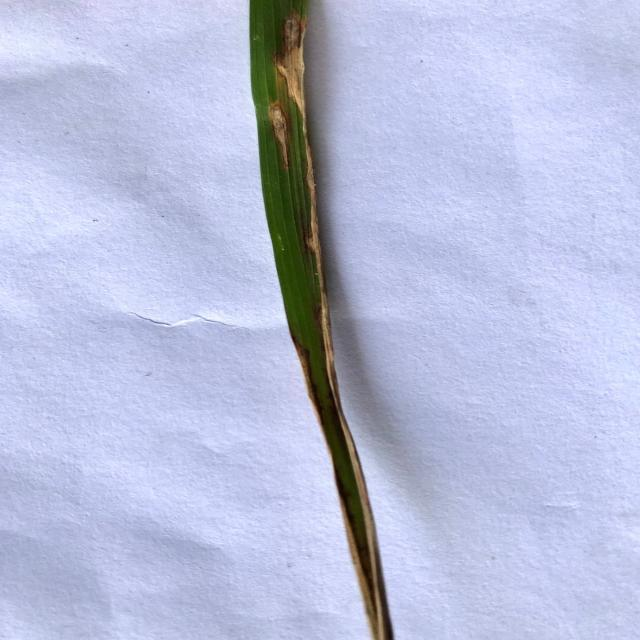Leaf Blight: (277, 18, 390, 640), (268, 100, 289, 170)
